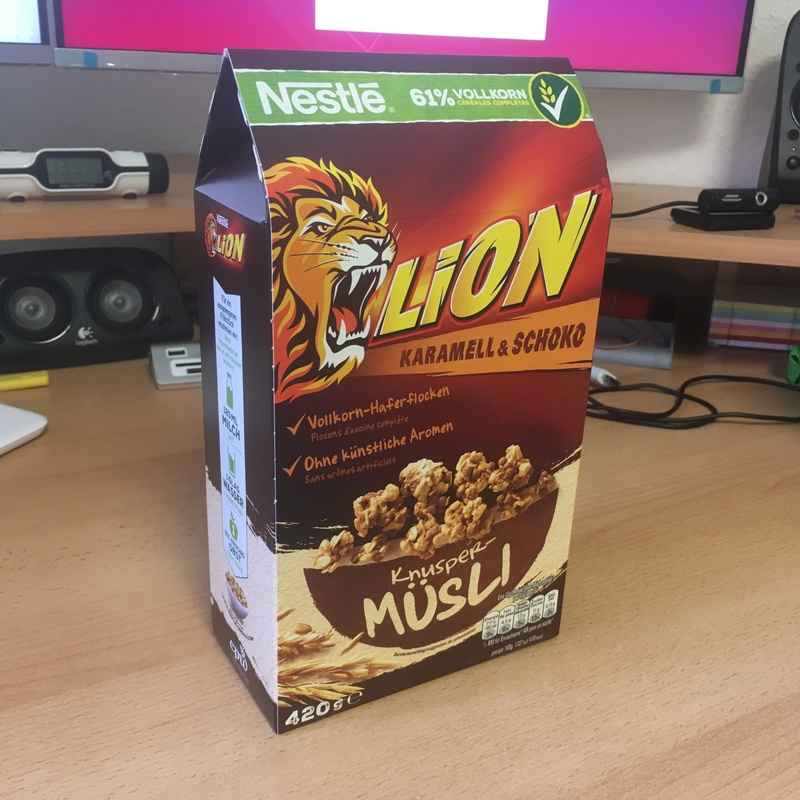cereals: (193, 48, 612, 739)
